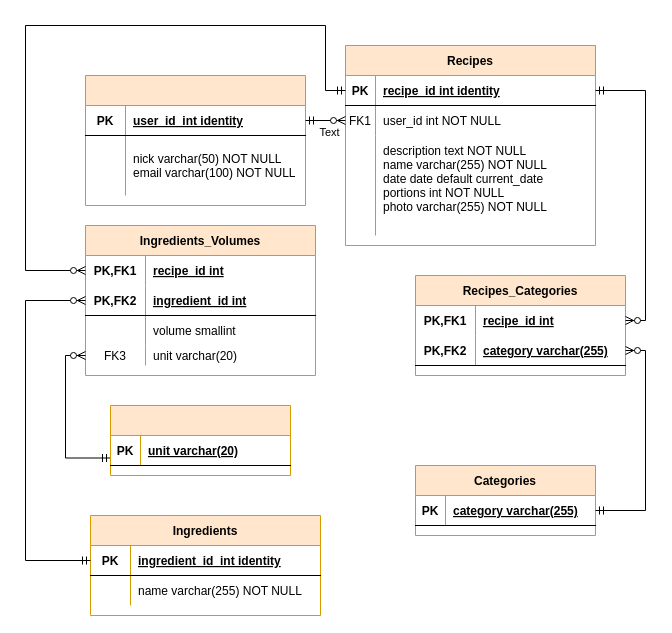
Image size: 672x633. Some labels were removed from this diagram. Here are the shapes that lost their labels. From the top down, the box of each, then its label:
(84, 74, 306, 206): Users
(110, 404, 290, 476): Units
